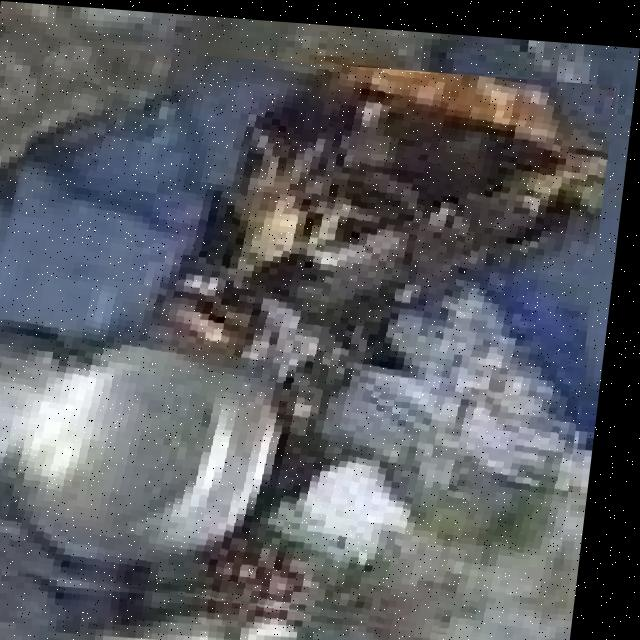litter: (0, 69, 610, 589)
